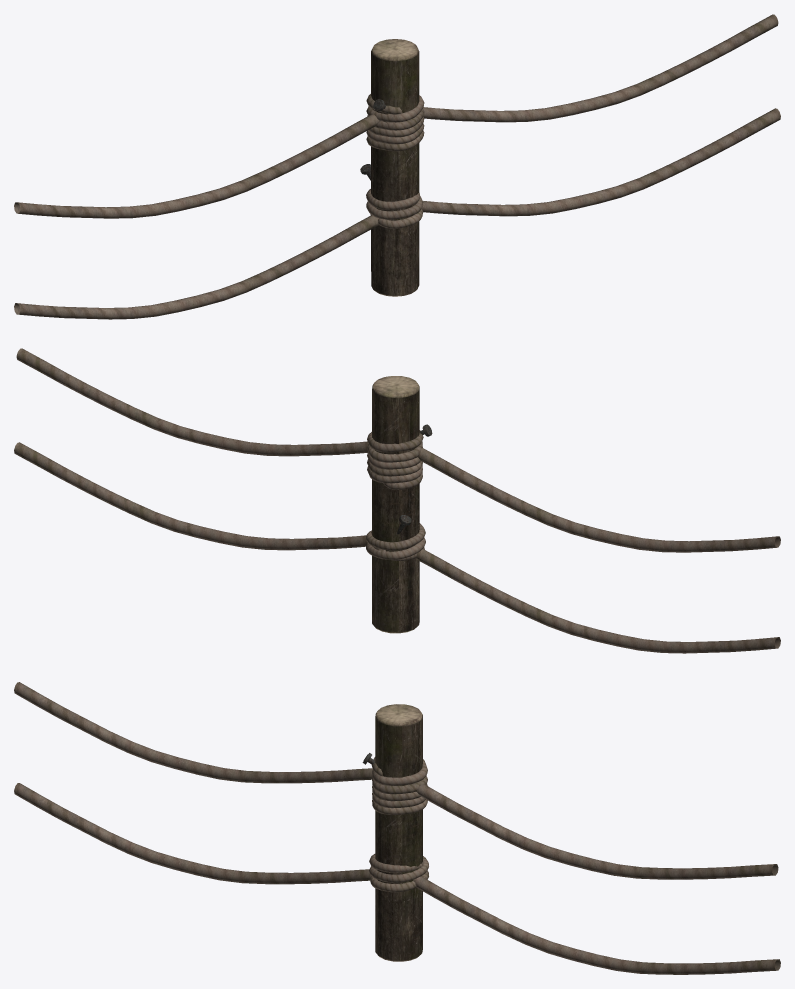
File: rope_fence09.fbx
The picture shows the model from 3 angles, top to bottom: view 1: azimuth 30°, elevation 25°; view 2: azimuth 150°, elevation 25°; view 3: azimuth 330°, elevation 25°; orthographic projection.
Parts seen in each view (by area): view 1: rope_fence09; view 2: rope_fence09; view 3: rope_fence09.
Boxes of the visible parts, x1,y1,x2,y2 form: rope_fence09: (14,14,780,319); rope_fence09: (14,348,780,653); rope_fence09: (14,682,780,974).
Bounding box in the file's own units: 472 × 141 × 31.96.
